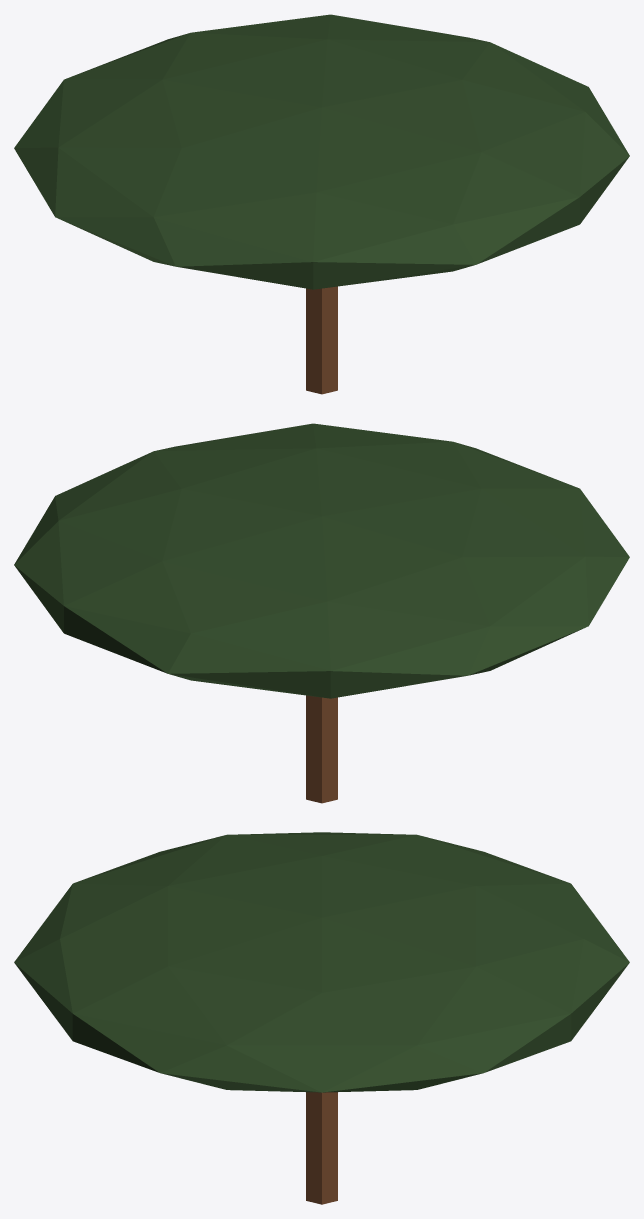
Rendered from trad_tall.glb.
3 views of the same model, one above another, from view 1: azimuth 30°, elevation 25°; view 2: azimuth 150°, elevation 25°; view 3: azimuth 270°, elevation 25° (orthographic).
Parts seen in each view (by area): view 1: geometry_0; view 2: geometry_0; view 3: geometry_0.
Boxes of the visible parts, x1=… form: geometry_0: x1=14, y1=14, x2=629, y2=394; geometry_0: x1=14, y1=423, x2=629, y2=803; geometry_0: x1=14, y1=832, x2=629, y2=1204.
Size of the model in its own units: 2 by 1 by 2.
